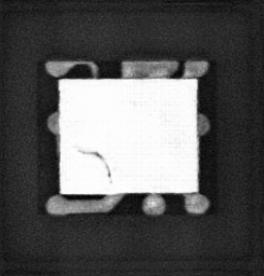DIE_INK: (79, 148, 112, 184)
